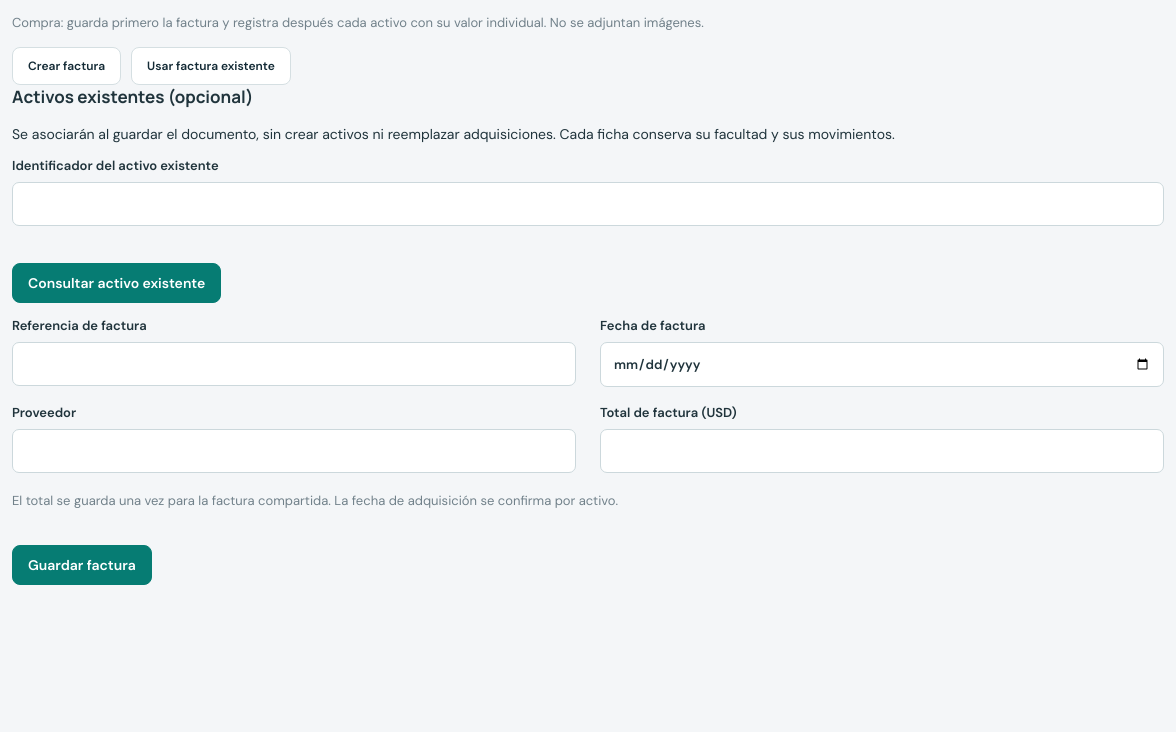
Scenario: documento de donación no se convierte en compra ficticia
Click the button "Usar factura existente". click: (211, 66)
box: [131,47,291,85]
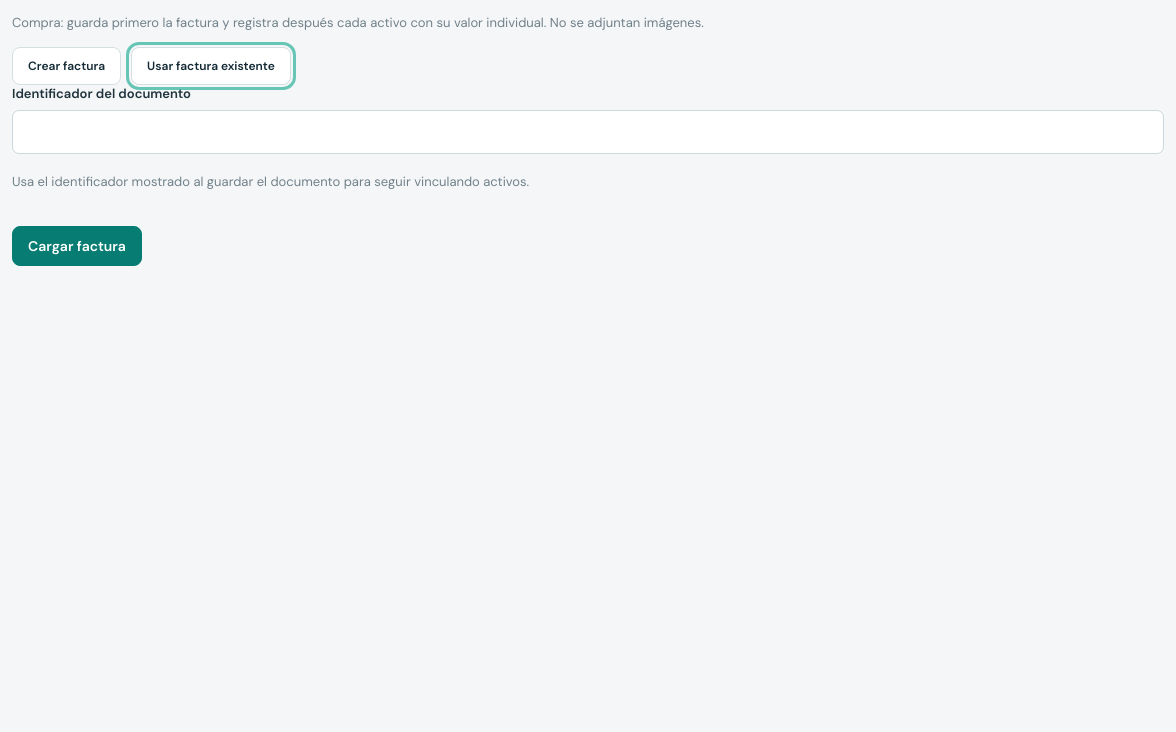
Type "17" into the field labelled "Identificador del documento". click: (588, 132)
box: [12,110,1164,154]
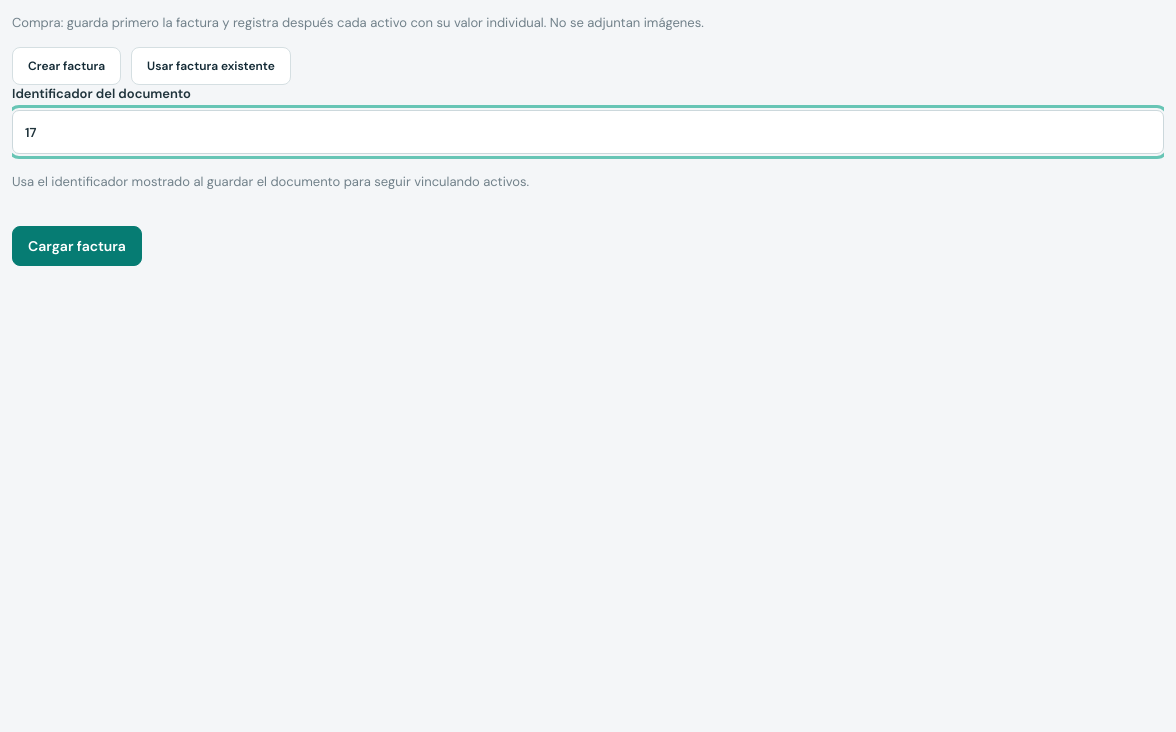
Click the button "Cargar factura". click: (77, 246)
box: [12,226,142,266]
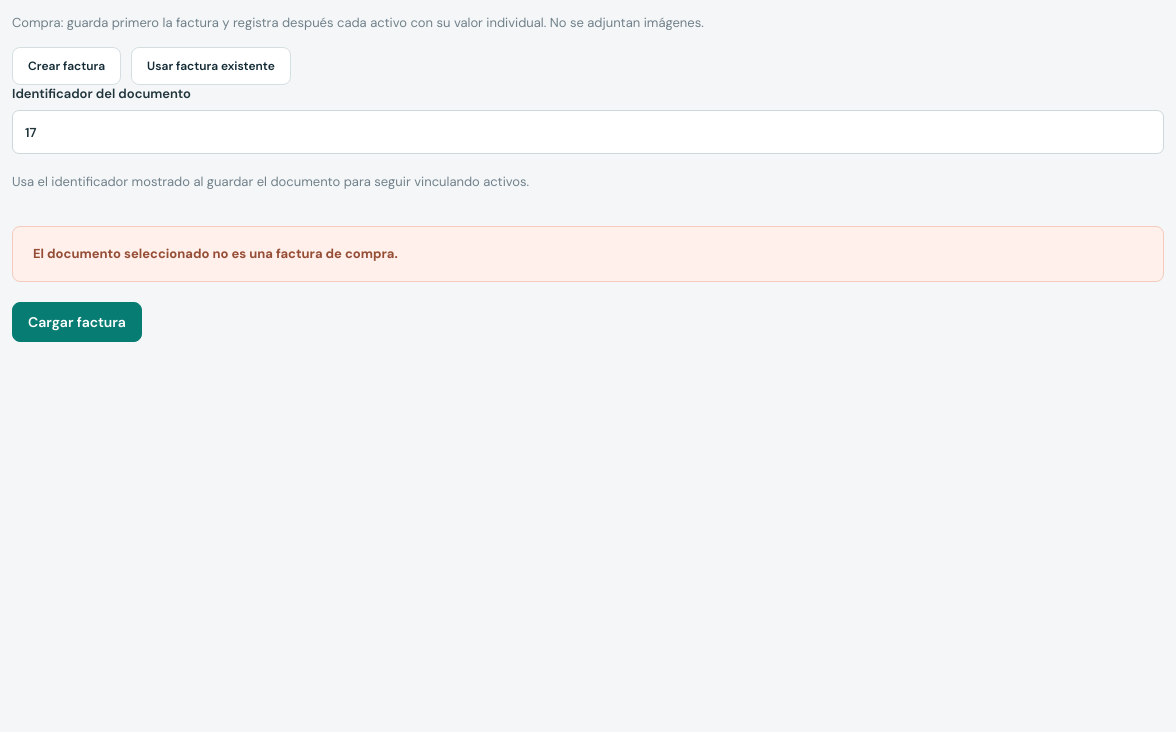
Expected: the message shows "no es una factura de compra", [33,245,398,262]
